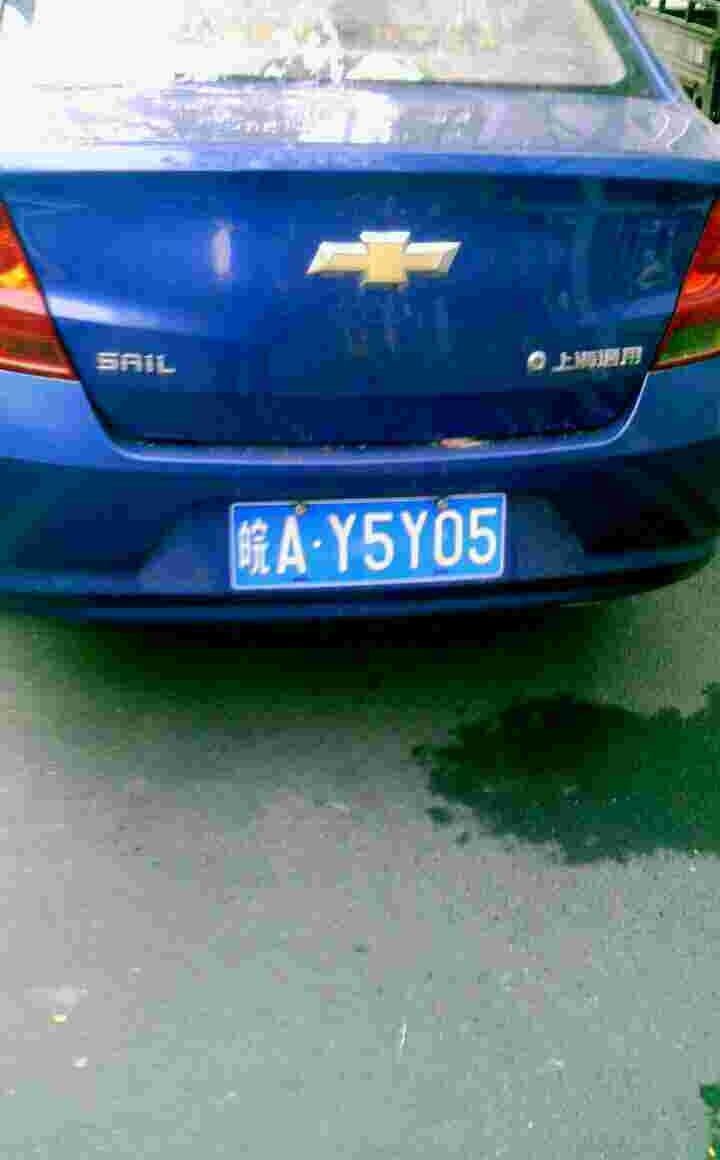license_plate: (233, 502, 502, 591)
